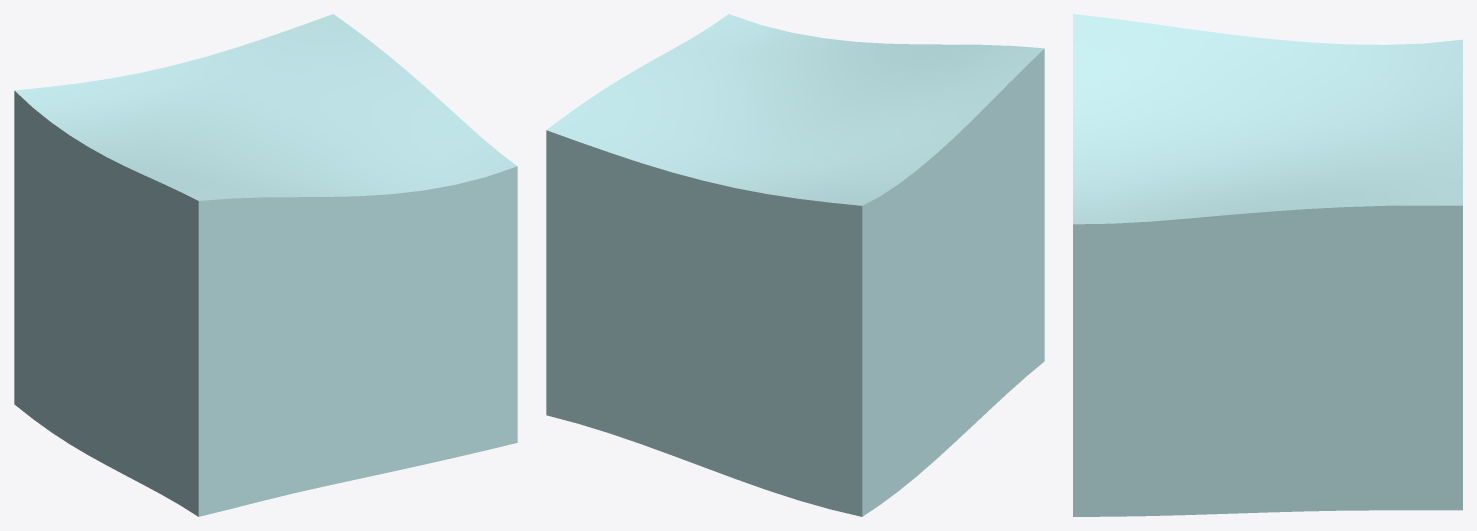
Rendered from ice_cube.fbx.
3 renders of one model, left to right at view 1: azimuth 30°, elevation 25°; view 2: azimuth 150°, elevation 25°; view 3: azimuth 270°, elevation 25°, orthographic. The views are drawn at different scales.
Visible parts, largest first — view 1: pCube1; view 2: pCube1; view 3: pCube1.
Part boxes in pixels (bbox=[...]): pCube1: bbox=[14, 14, 517, 516]; pCube1: bbox=[546, 14, 1044, 516]; pCube1: bbox=[1073, 14, 1462, 516].
Bounding box in the file's own units: 10 × 10.17 × 10.
